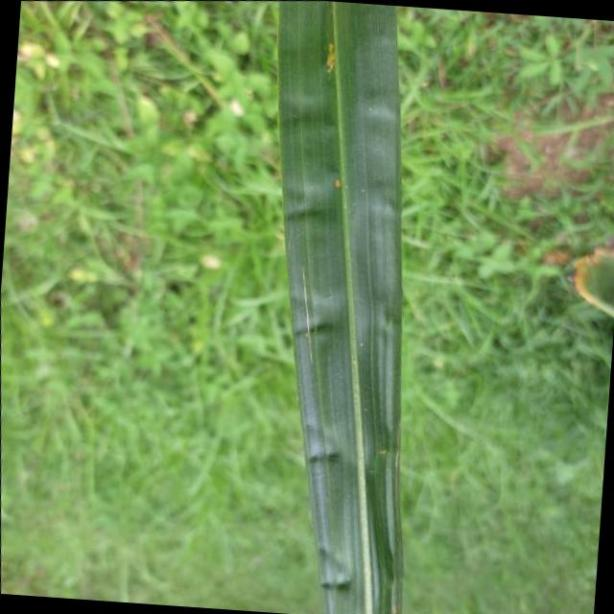Boron: (278, 0, 406, 614)
